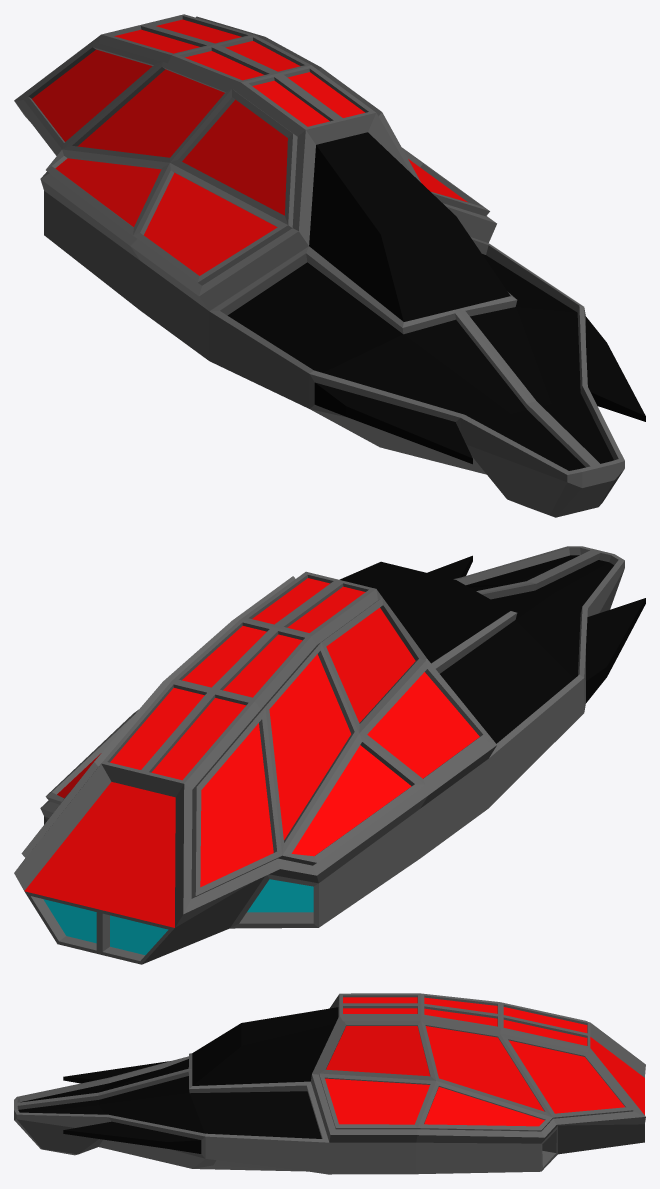
The model's file is KamikazeShip_Color.fbx.
3 renders of one model, top to bottom at view 1: azimuth 30°, elevation 25°; view 2: azimuth 150°, elevation 25°; view 3: azimuth 270°, elevation 25°, orthographic. The views are drawn at different scales.
Parts seen in each view (by area): view 1: Cube; view 2: Cube; view 3: Cube.
Boxes of the visible parts, <box> form: Cube: <box>14,14,645,517</box>; Cube: <box>14,546,645,964</box>; Cube: <box>14,993,645,1174</box>.
Bounding box in the file's own units: 497 × 378 × 1443.
